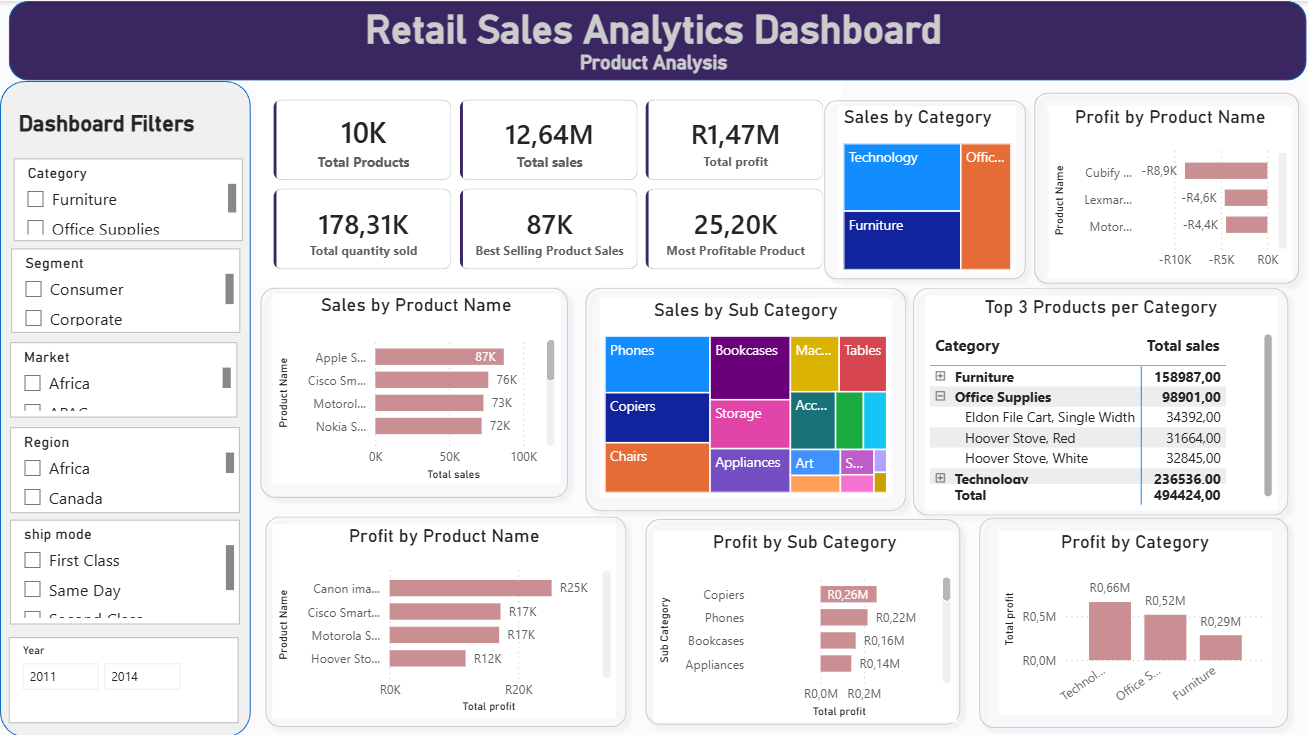

Layout of this report page (visuals, bound fields, positions):
{"tool":"powerbi","page":{"name":"Product Analysis","canvas":[1280,720],"ordinal":3},"visuals":[{"type":"shape","box":[8.7,0,1269.6,77.9],"z":0},{"type":"textbox","box":[10.1,0,1259.5,93.8],"z":1000},{"type":"shape","box":[0,77.9,245.3,642],"z":2000},{"type":"slicer","fields":{"Values":["superstore.category"]},"box":[13,154.4,223.6,80.8],"z":3000},{"type":"slicer","fields":{"Values":["superstore.segment"]},"box":[11.5,242.4,223.6,82.2],"z":4000},{"type":"slicer","fields":{"Values":["superstore.market"]},"box":[10.1,333.3,222.2,73.6],"z":5000},{"type":"slicer","fields":{"Values":["superstore.region"]},"box":[10.1,417,225.1,83.7],"z":6000},{"type":"slicer","fields":{"Values":["superstore.ship_mode"]},"box":[10.1,507.9,225.1,102.4],"z":7000},{"type":"slicer","fields":{"Values":["superstore.year"]},"box":[8.7,621.8,225.1,83.7],"z":8000},{"type":"textbox","box":[13,102.4,223.6,50.5],"z":9000},{"type":"cardVisual","fields":{"Data":["superstore.Total Products","superstore.Total sales","superstore.Total profit","superstore.Total quantity sold","superstore.Best Selling Product Sales","superstore.Most Profitable Product"]},"box":[251,79.4,572.8,200.5],"z":10000},{"type":"shape","box":[949.3,496.3,320.4,223.8],"z":11000},{"type":"shape","box":[884.4,271.2,385.2,240.9],"z":12000},{"type":"shape","box":[245.3,271.2,318.9,223.6],"z":13000},{"type":"shape","box":[1002.7,80.8,277,204.9],"z":14000},{"type":"shape","box":[564.1,271.2,331.8,236.6],"z":15000},{"type":"shape","box":[621.8,497.8,326.1,219.3],"z":16000},{"type":"shape","box":[250.3,495.4,371.1,224.1],"z":17000},{"type":"clusteredBarChart","title":" Sales by Product Name","fields":{"Category":["superstore.Product Name"],"Y":["superstore.Total sales"]},"box":[266.9,285.7,281.3,187.6],"z":18000},{"type":"clusteredBarChart","title":"Profit by Product Name","fields":{"Category":["superstore.Product Name"],"Y":["superstore.Total profit"]},"box":[266.9,512.2,336.2,189],"z":19000},{"type":"clusteredBarChart","title":"Profit by Product Name","fields":{"Category":["superstore.Product Name"],"Y":["superstore.Total profit"]},"box":[1025.8,102.4,238.1,168.8],"z":20000},{"type":"clusteredColumnChart","title":" Profit by Category","fields":{"Category":["superstore.Category"],"Y":["superstore.Total profit"]},"box":[976.7,518,266.9,180.3],"z":21000},{"type":"treemap","title":"Sales by Sub Category","fields":{"Group":["superstore.Sub Category"],"Values":["superstore.Total sales"]},"box":[587.2,291.4,285.7,194.8],"z":22000},{"type":"clusteredBarChart","title":" Profit by Sub Category","fields":{"Category":["superstore.Sub Category"],"Y":["superstore.Total profit"]},"box":[639.1,518,295.8,187.6],"z":23000},{"type":"pivotTable","title":"Top 3 Products  per Category","fields":{"Rows":["superstore.Category","superstore.Product Name"],"Values":["superstore.Total sales"]},"box":[904.6,288.6,344.8,209.2],"z":24000},{"type":"shape","box":[797.8,88,215.2,193.2],"z":25000},{"type":"treemap","title":"Sales by Category","fields":{"Group":["superstore.Category"],"Values":["superstore.Total sales"]},"box":[820.9,102.4,173.6,165.1],"z":26000}]}

Visuals, with their boxes in screenshot pixels (x1, y1, x2, y2), scaled from the page's 1280x720 canvas onto the 1308x735 screenshot:
shape: box(9, 0, 1306, 80)
textbox: box(10, 0, 1297, 96)
shape: box(0, 80, 251, 734)
slicer - superstore.category: box(13, 158, 242, 240)
slicer - superstore.segment: box(12, 247, 240, 331)
slicer - superstore.market: box(10, 340, 237, 415)
slicer - superstore.region: box(10, 426, 240, 511)
slicer - superstore.ship_mode: box(10, 518, 240, 623)
slicer - superstore.year: box(9, 635, 239, 720)
textbox: box(13, 105, 242, 156)
cardVisual - superstore.Total Products x superstore.Total sales: box(256, 81, 842, 286)
shape: box(970, 507, 1297, 734)
shape: box(904, 277, 1297, 523)
shape: box(251, 277, 577, 505)
shape: box(1025, 82, 1307, 292)
shape: box(576, 277, 915, 518)
shape: box(635, 508, 969, 732)
shape: box(256, 506, 635, 734)
" Sales by Product Name" clusteredBarChart: box(273, 292, 560, 483)
"Profit by Product Name" clusteredBarChart: box(273, 523, 616, 716)
"Profit by Product Name" clusteredBarChart: box(1048, 105, 1292, 277)
" Profit by Category" clusteredColumnChart: box(998, 529, 1271, 713)
"Sales by Sub Category" treemap: box(600, 297, 892, 496)
" Profit by Sub Category" clusteredBarChart: box(653, 529, 955, 720)
"Top 3 Products  per Category" pivotTable: box(924, 295, 1277, 508)
shape: box(815, 90, 1035, 287)
"Sales by Category" treemap: box(839, 105, 1016, 273)
